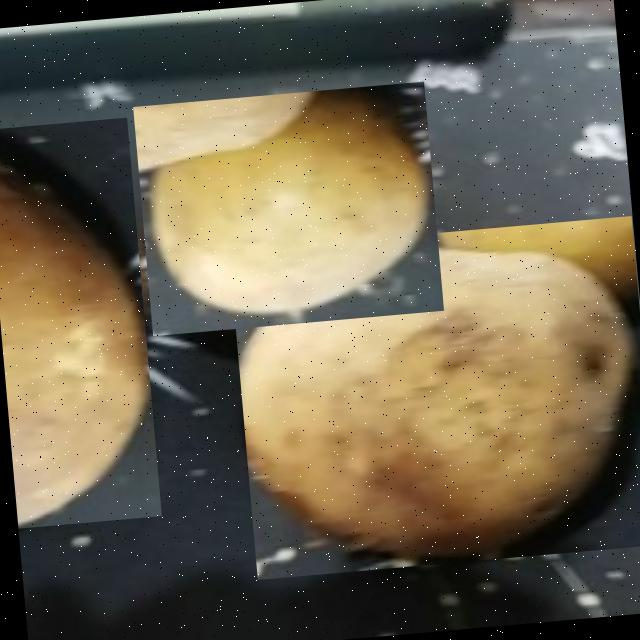Damaged potato: (227, 214, 640, 579)
Potato: (132, 80, 442, 335), (0, 116, 160, 527)
